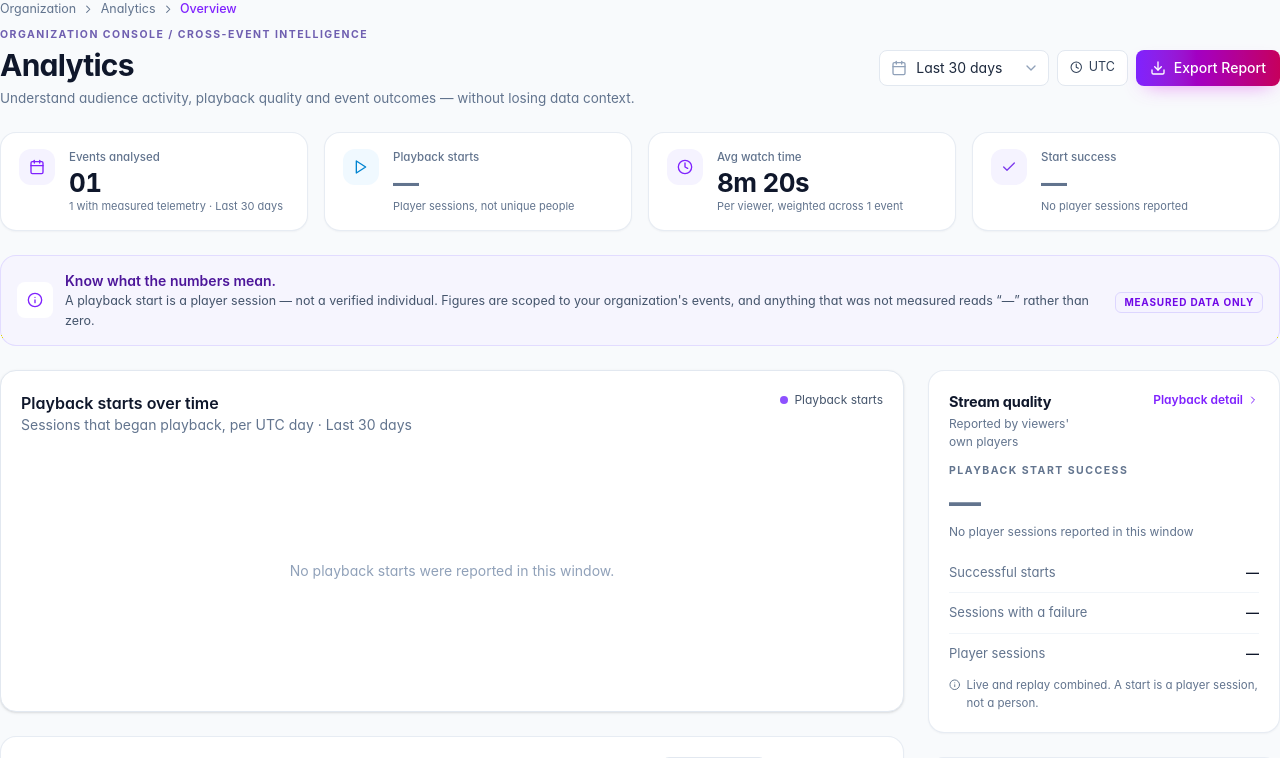
Test: the date range drives the request › re-requests and re-renders when the range changes
Select "Last 7 days" in the dropdown named "Date range": (964, 68) [879,50,1049,86]
(page scrolled)
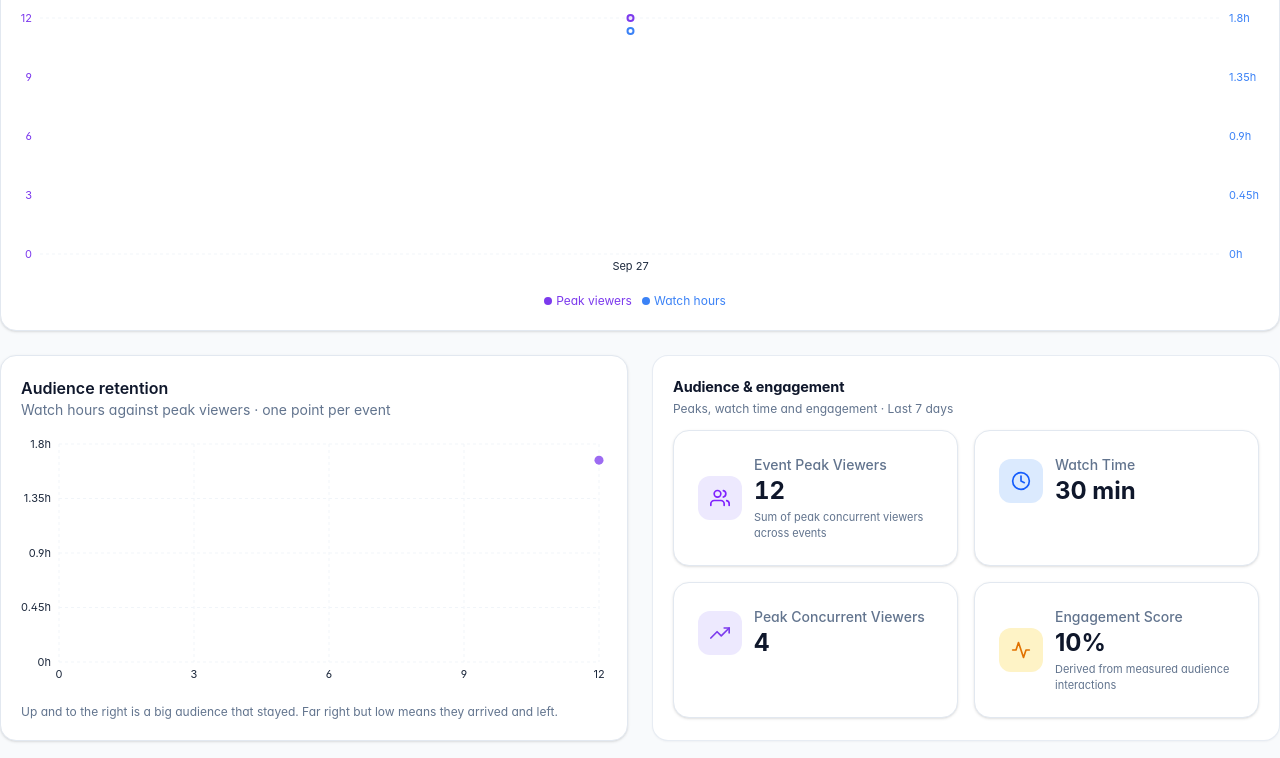
Now the text "30 min" is shown, box [1055,474,1136,506]
